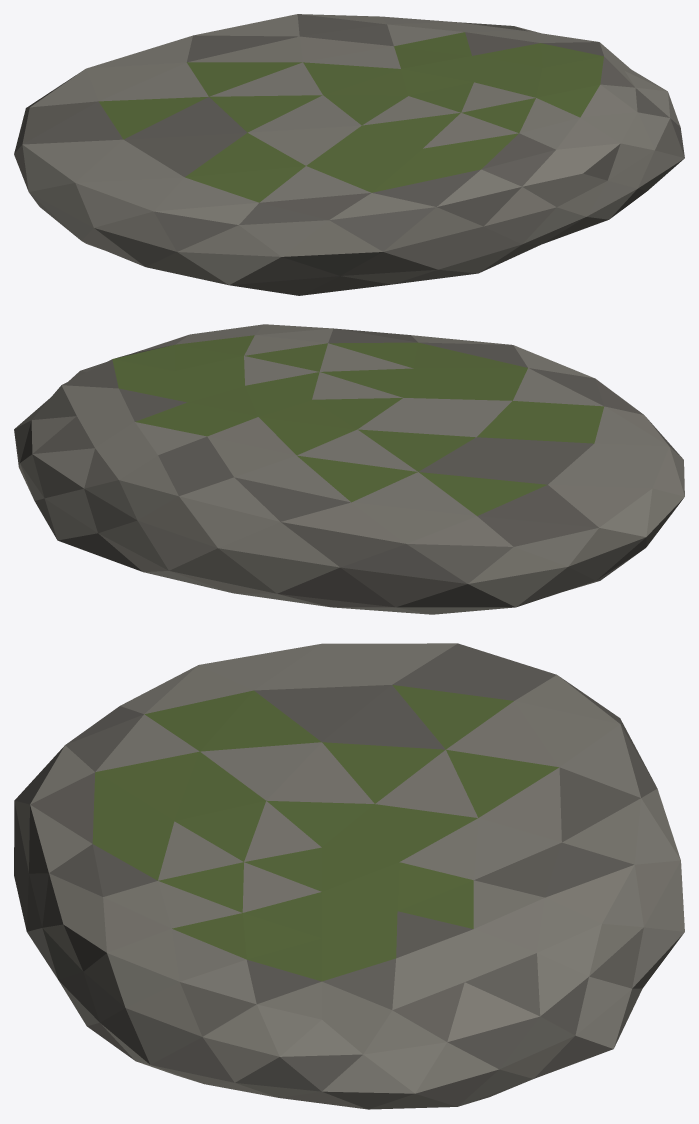
The model's file is rock_flat.glb.
3 renders of one model, top to bottom at view 1: azimuth 30°, elevation 25°; view 2: azimuth 150°, elevation 25°; view 3: azimuth 270°, elevation 25°, orthographic. The views are drawn at different scales.
Visible parts, largest first — view 1: rock_flat; view 2: rock_flat; view 3: rock_flat.
Part boxes in pixels (x1,y1,x2,y2): rock_flat: (14,14,684,295); rock_flat: (14,324,684,614); rock_flat: (14,643,684,1109).
Size of the model in its own units: 5.87 by 0.9949 by 4.32.
